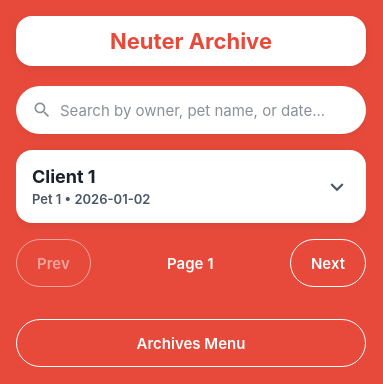
Test case: Neuter_Form_archive — reviewer (RabDash) pagination and search › tapping Next fetches page 2 from the server
Expected: the text "Client 1" is shown, x1=32 y1=166 x2=96 y2=187
What coordinates should you click on to do the following:
click the text "Next"
I would click on:
 (328, 263)
Its box is x1=311 y1=254 x2=345 y2=272.
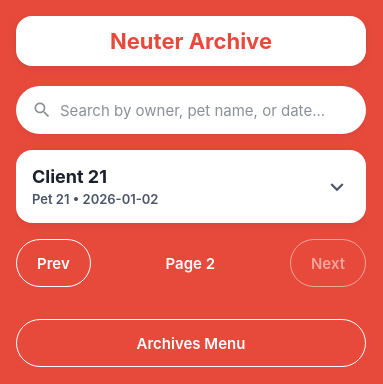
Result: the text "Client 21" is shown at x1=32 y1=166 x2=107 y2=187
